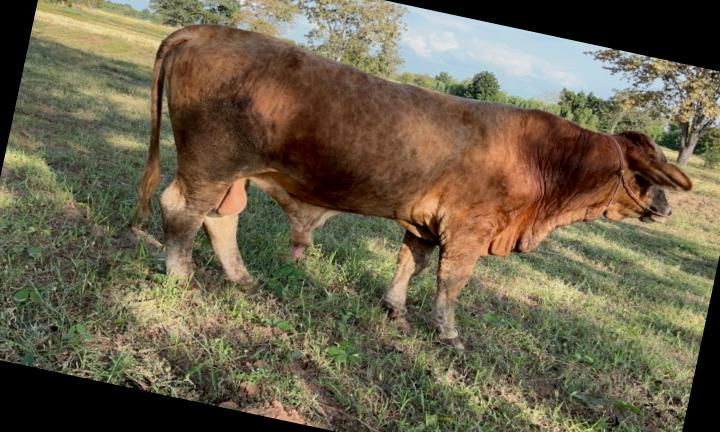Charolais: (137, 25, 692, 348)
